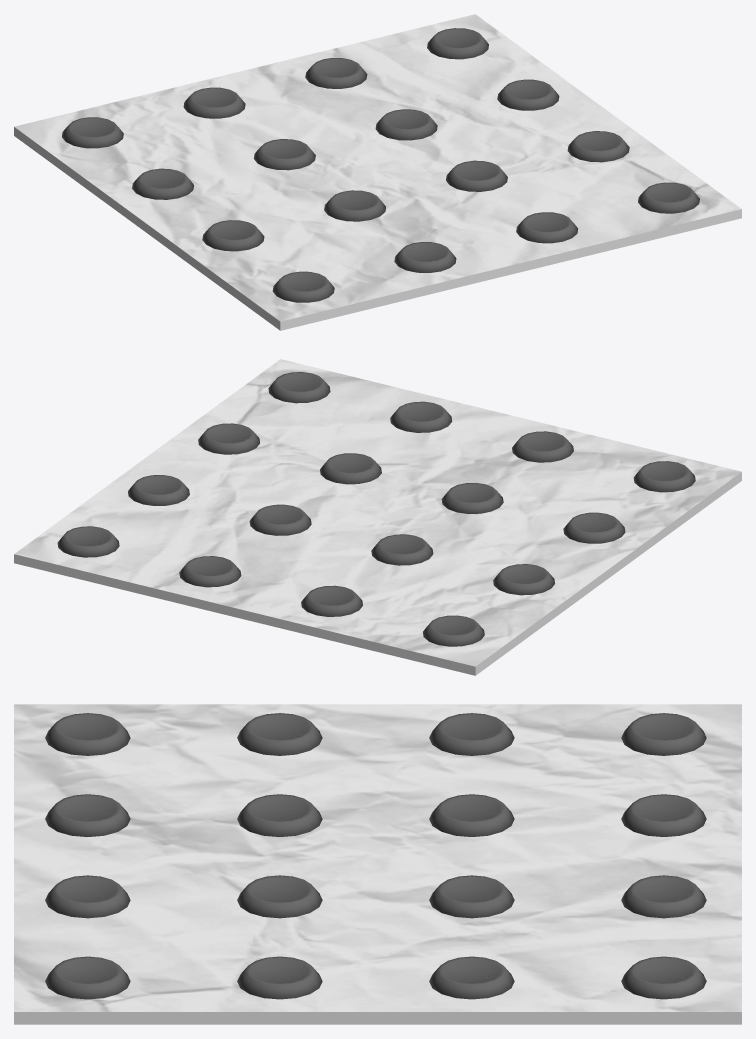
The model's file is Corn_Box.fbx.
3 views of the same model, one above another, from view 1: azimuth 30°, elevation 25°; view 2: azimuth 150°, elevation 25°; view 3: azimuth 270°, elevation 25° (orthographic). The views are drawn at different scales.
Visible parts, largest first — view 1: Cone.001; view 2: Cone.001; view 3: Cone.001.
Boxes of the visible parts, x1,y1,x2,y2 form: Cone.001: (14,14,741,330); Cone.001: (14,359,741,675); Cone.001: (14,704,741,1024).
Bounding box in the file's own units: 200 × 6.96 × 200.
